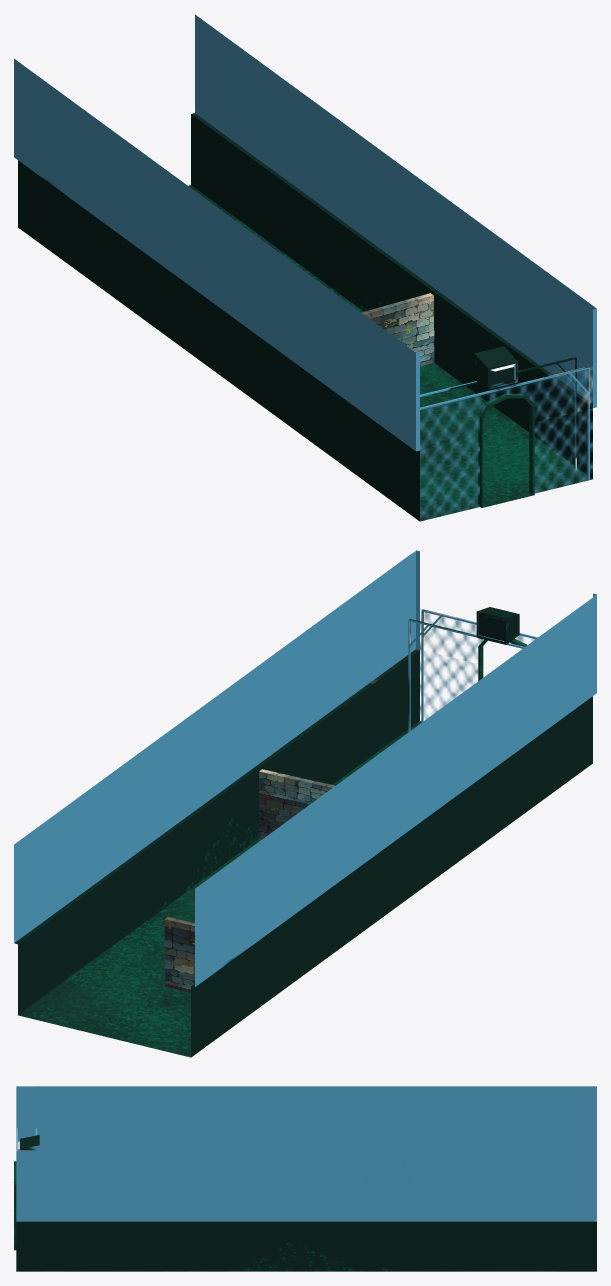
Rendered from corridor3_1.glb.
3 renders of one model, top to bottom at view 1: azimuth 30°, elevation 25°; view 2: azimuth 150°, elevation 25°; view 3: azimuth 270°, elevation 25°, orthographic. The views are drawn at different scales.
Parts seen in each view (by area): view 1: corridor_base.004, table_mesh.018; view 2: corridor_base.004, table_mesh.018, table_mesh.021; view 3: corridor_base.004.
Boxes of the visible parts, bbox=[...] form: corridor_base.004: bbox=[14, 14, 596, 521]; table_mesh.018: bbox=[361, 293, 434, 366]; corridor_base.004: bbox=[14, 550, 596, 1057]; table_mesh.018: bbox=[258, 769, 335, 839]; table_mesh.021: bbox=[164, 917, 194, 992]; corridor_base.004: bbox=[14, 1086, 596, 1271].
Bounding box in the file's own units: 5.18 × 4.65 × 20.
Materials: 2 (2 with a texture image).
